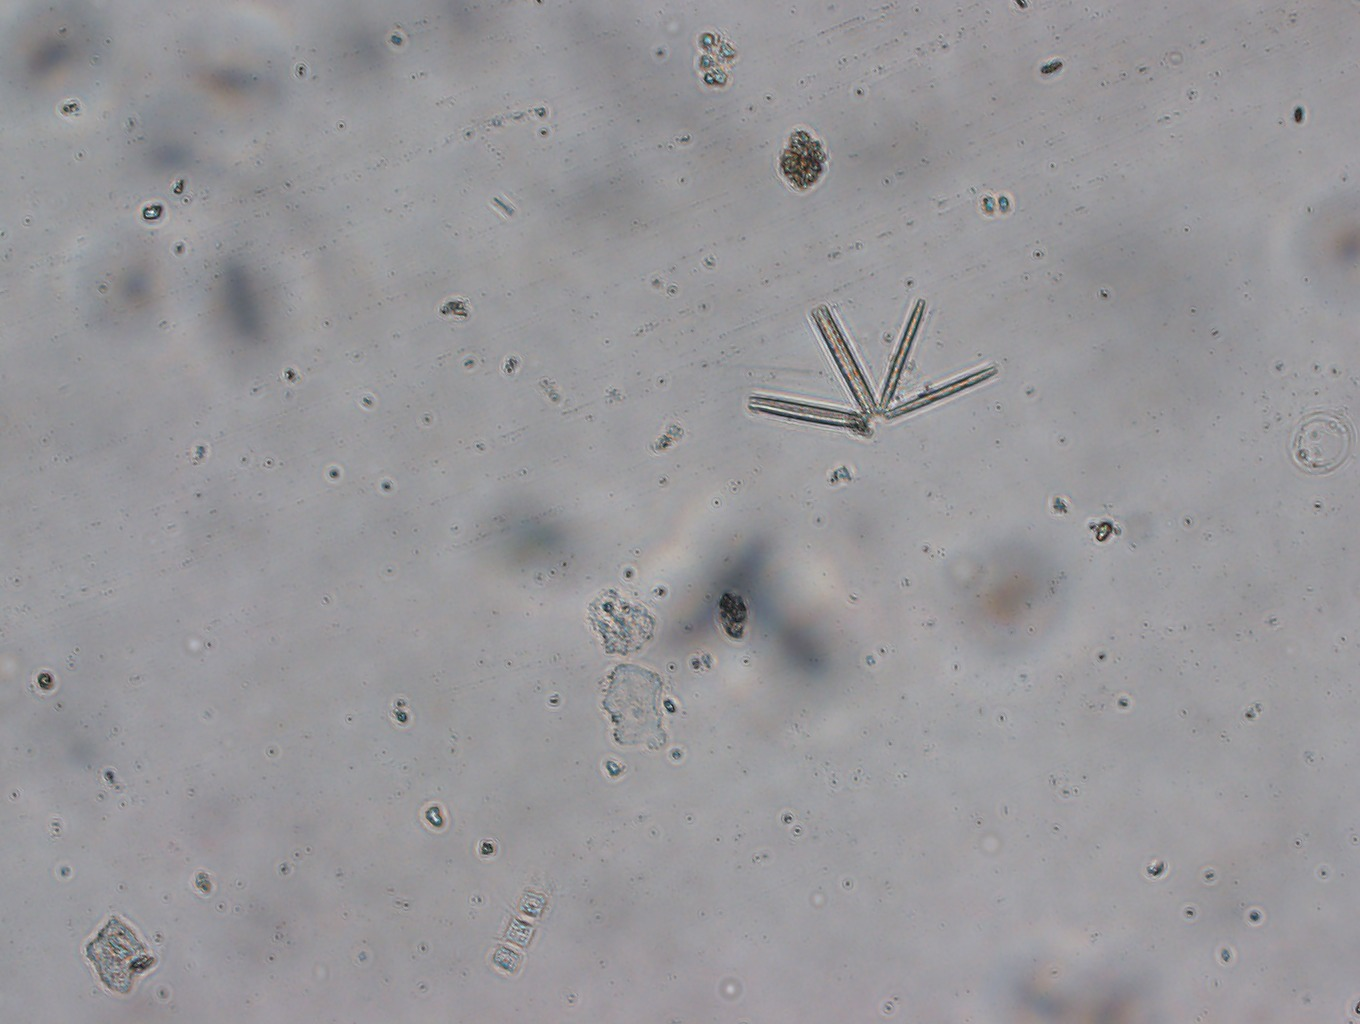thalassionema nitzschioides: (747, 299, 996, 432)
